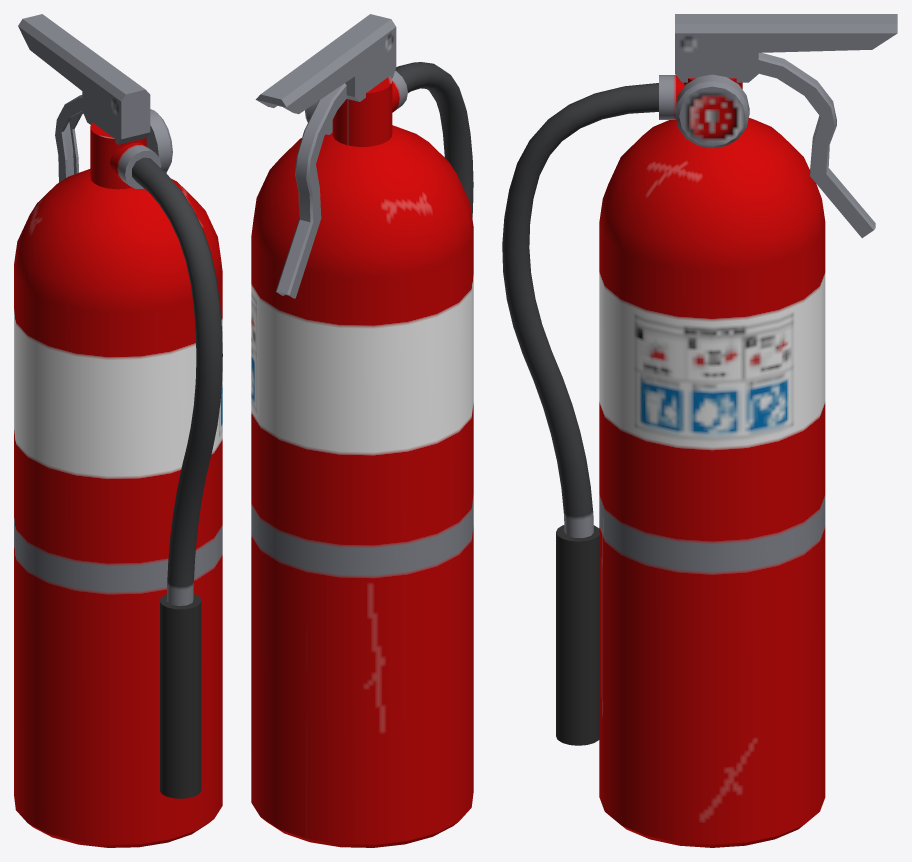
The model's file is extinguisher.fbx.
3 renders of one model, left to right at view 1: azimuth 30°, elevation 25°; view 2: azimuth 150°, elevation 25°; view 3: azimuth 270°, elevation 25°, orthographic. The views are drawn at different scales.
Parts seen in each view (by area): view 1: pCylinder7; view 2: pCylinder7; view 3: pCylinder7.
Part boxes in pixels (x1,y1,x2,y2): pCylinder7: [14, 14, 222, 847]; pCylinder7: [251, 14, 473, 847]; pCylinder7: [502, 14, 897, 847].
Size of the model in its own units: 12.05 by 46.08 by 21.07.
